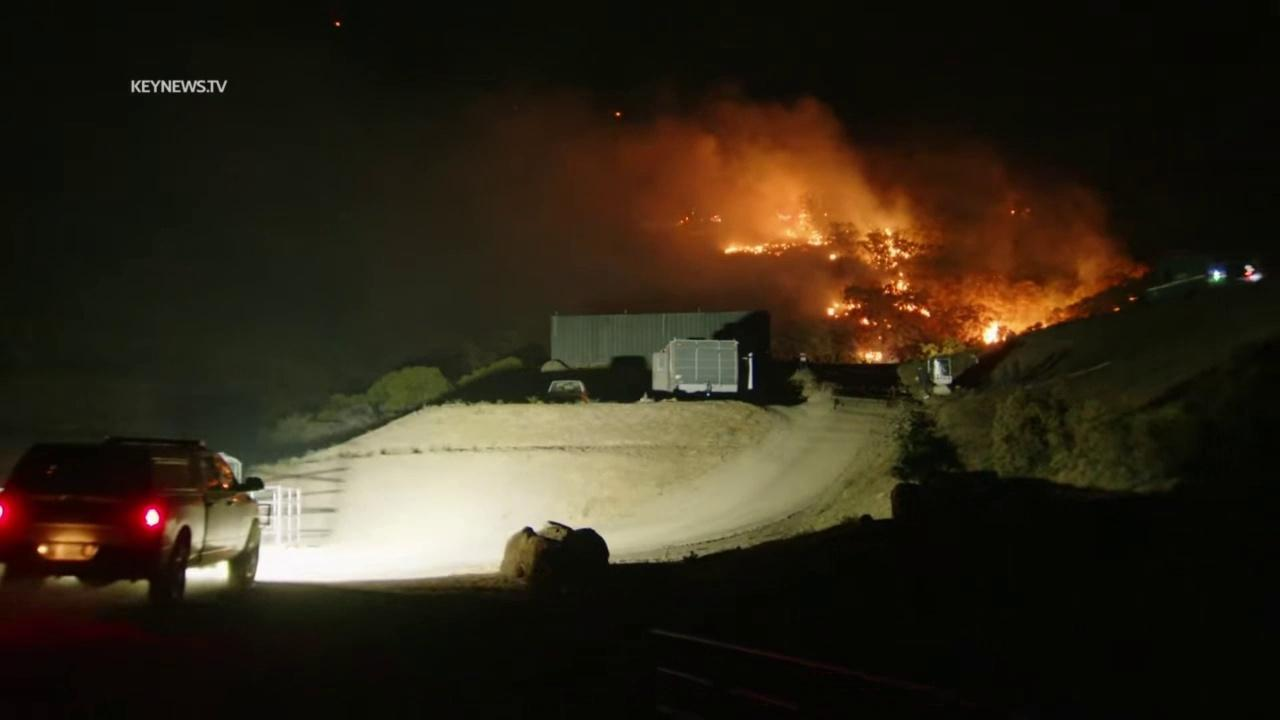fire: (777, 209, 830, 247), (867, 228, 913, 270), (721, 241, 791, 257), (881, 272, 914, 296), (894, 301, 931, 319), (826, 301, 862, 318), (981, 319, 1002, 344), (854, 350, 884, 365), (858, 316, 870, 326), (708, 215, 723, 223), (679, 216, 688, 225), (828, 254, 838, 262), (1010, 209, 1016, 216), (615, 112, 622, 117), (872, 321, 878, 326), (886, 324, 892, 329), (878, 336, 883, 340)
smoke: (446, 75, 1154, 368)
